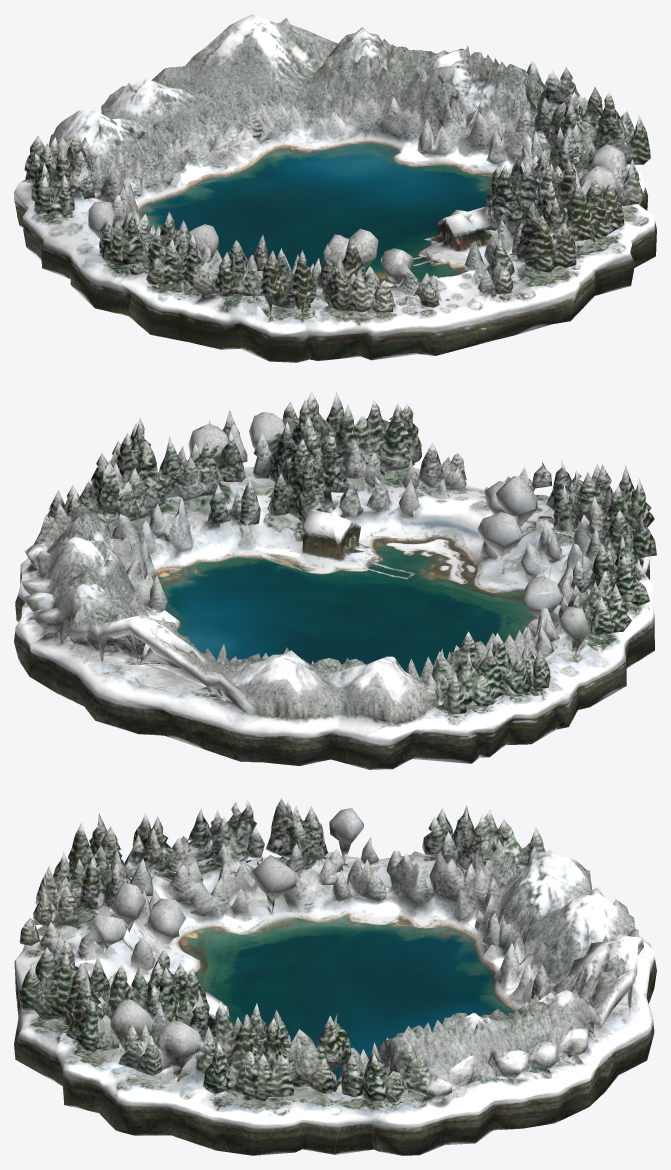
File: city_bolu_yedigoller_lake.glb
3 views of the same model, one above another, from view 1: azimuth 30°, elevation 25°; view 2: azimuth 150°, elevation 25°; view 3: azimuth 270°, elevation 25° (orthographic). The views are drawn at different scales.
Visible parts, largest first — view 1: Mesh1.0; view 2: Mesh1.0; view 3: Mesh1.0.
Part boxes in pixels (x1,y1,x2,y2): Mesh1.0: (14,14,656,362); Mesh1.0: (14,391,656,769); Mesh1.0: (14,798,656,1155).
Bounding box in the file's own units: 74.58 × 16 × 74.49.
Materials: 1 (1 with a texture image).
